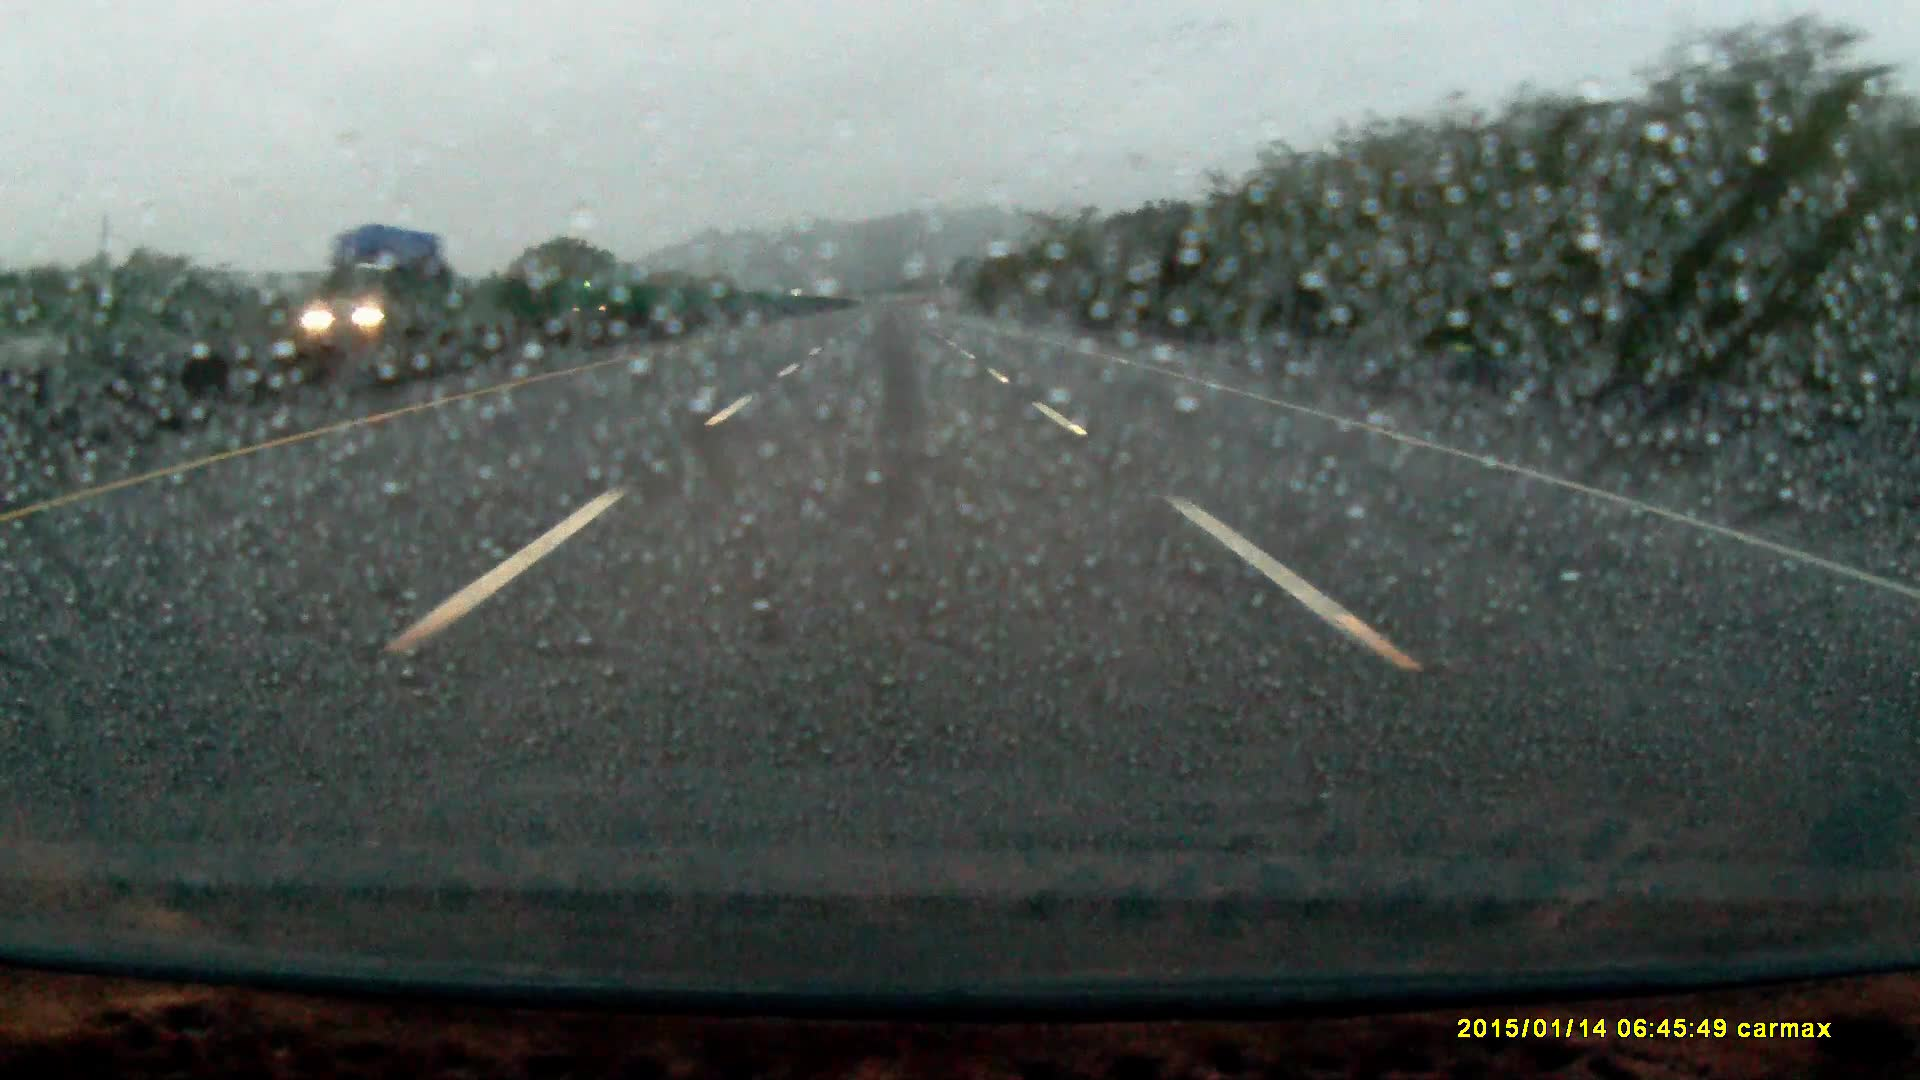vehicle: (307, 229, 430, 340), (564, 266, 642, 327)
